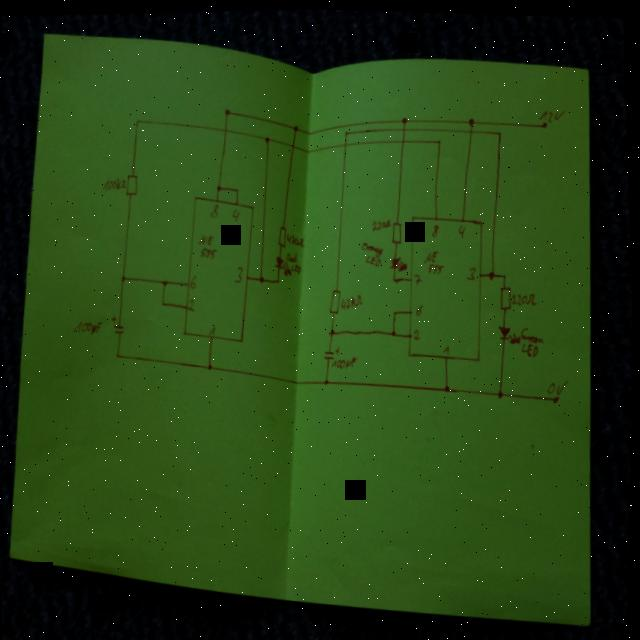capacitor: (111, 312, 126, 334), (324, 342, 342, 358)
crossover: (468, 124, 475, 132), (400, 134, 406, 143), (291, 140, 297, 148), (223, 125, 229, 133), (402, 122, 408, 130), (343, 139, 349, 146)
diode: (499, 321, 522, 341), (275, 254, 293, 275), (389, 254, 409, 270)
junction: (207, 360, 216, 371), (488, 266, 497, 277), (467, 113, 476, 123), (498, 385, 506, 395), (444, 381, 452, 391), (121, 273, 129, 282), (259, 272, 266, 282), (329, 326, 337, 334), (391, 326, 399, 334), (223, 106, 231, 114), (264, 134, 272, 142), (402, 113, 409, 122), (162, 277, 169, 285), (496, 125, 503, 133), (324, 376, 331, 383), (116, 350, 122, 358), (161, 299, 167, 307), (135, 116, 141, 124), (292, 122, 298, 130), (436, 135, 442, 143), (393, 273, 399, 281), (216, 183, 222, 190), (502, 269, 508, 276), (234, 186, 240, 192), (343, 127, 349, 133), (394, 307, 398, 313), (277, 276, 281, 282)
resistor: (500, 281, 513, 309), (329, 286, 342, 313), (126, 172, 139, 197), (390, 218, 404, 241), (277, 223, 288, 246)
terminal: (540, 118, 548, 126), (553, 392, 561, 400)
text: (521, 323, 546, 354), (362, 238, 385, 265), (198, 232, 219, 260), (73, 318, 104, 336), (424, 246, 445, 271), (538, 105, 567, 120), (512, 288, 539, 304), (286, 249, 303, 273), (547, 375, 571, 392), (341, 291, 364, 308), (102, 176, 127, 190), (286, 230, 306, 247), (332, 354, 358, 366), (372, 216, 393, 229), (466, 262, 478, 278), (210, 201, 221, 216), (234, 264, 244, 280), (232, 206, 241, 221), (188, 296, 197, 311), (431, 220, 440, 234), (458, 221, 467, 235), (190, 274, 199, 288), (416, 301, 425, 314), (414, 270, 423, 282), (209, 324, 218, 335), (413, 326, 421, 337), (444, 342, 451, 353)
